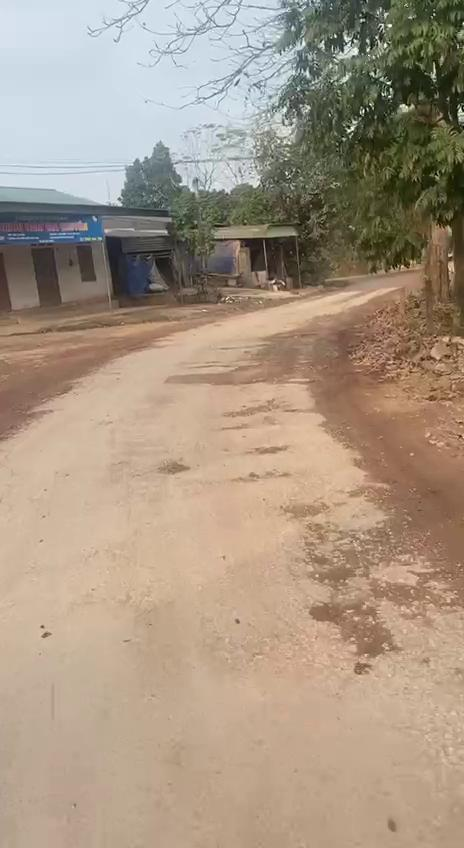pothole: (289, 502, 460, 668)
